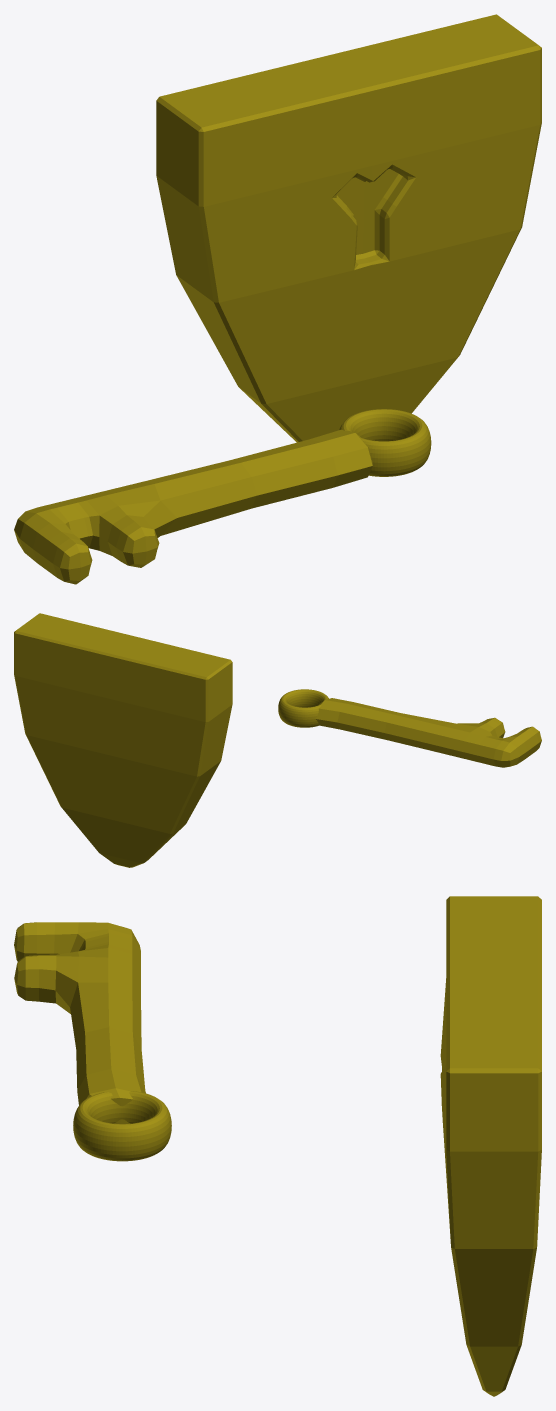
Rendered from Key.fbx.
The picture shows the model from 3 angles, top to bottom: view 1: azimuth 30°, elevation 25°; view 2: azimuth 150°, elevation 25°; view 3: azimuth 270°, elevation 25°; orthographic projection. The views are drawn at different scales.
Parts seen in each view (by area): view 1: Cube, Cube.001; view 2: Cube, Cube.001; view 3: Cube, Cube.001.
Boxes of the visible parts, x1,y1,x2,y2 form: Cube: (156,14,541,442); Cube.001: (14,409,431,584); Cube: (14,613,232,867); Cube.001: (278,689,541,767); Cube: (440,896,541,1396); Cube.001: (14,922,171,1161).
Bounding box in the file's own units: 431 × 234 × 275.
